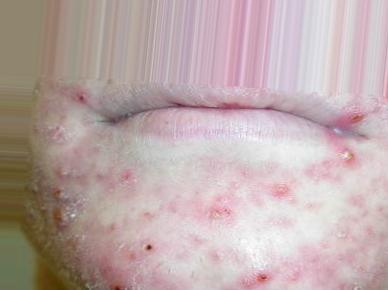Acne: (38, 179, 103, 243), (33, 112, 91, 167), (53, 77, 115, 127), (195, 194, 238, 257), (247, 169, 303, 215), (329, 139, 388, 182), (124, 230, 170, 284), (113, 167, 170, 203), (238, 255, 294, 290)
